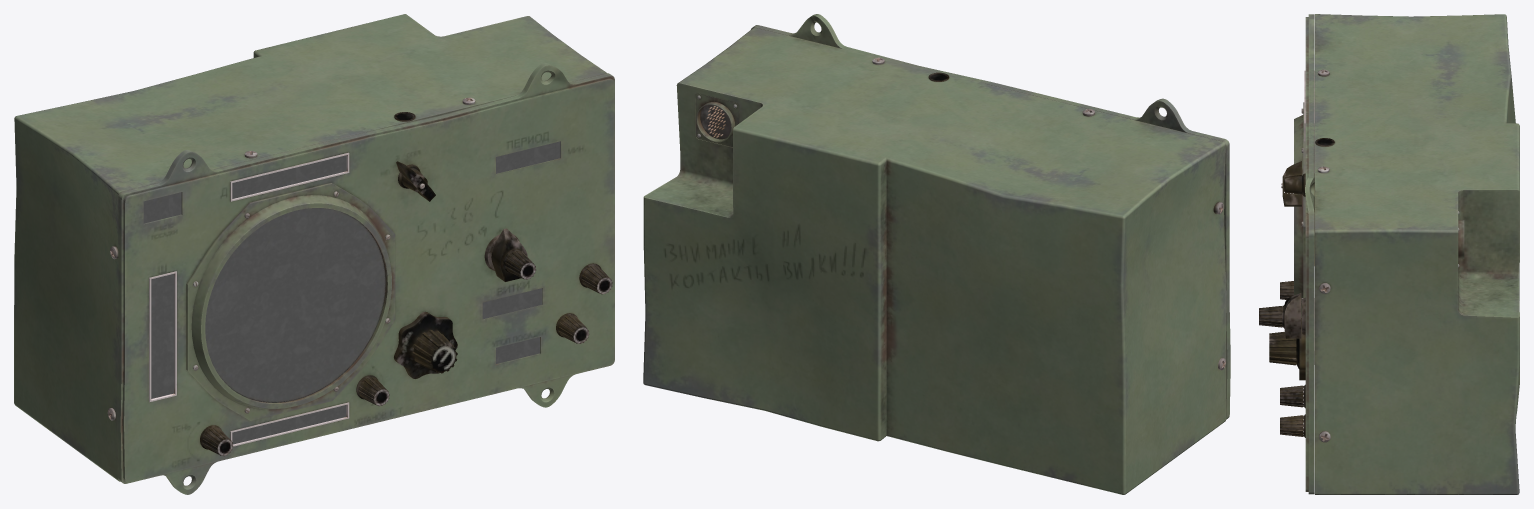
The model's file is analog_navigation_instrument.glb.
3 views of the same model, side by side, from view 1: azimuth 30°, elevation 25°; view 2: azimuth 150°, elevation 25°; view 3: azimuth 270°, elevation 25° (orthographic). The views are drawn at different scales.
Parts seen in each view (by area): view 1: vintage_spacecraft_instrument; view 2: vintage_spacecraft_instrument; view 3: vintage_spacecraft_instrument.
Boxes of the visible parts, <box> form: vintage_spacecraft_instrument: <box>14,14,614,494</box>; vintage_spacecraft_instrument: <box>643,14,1230,494</box>; vintage_spacecraft_instrument: <box>1259,14,1519,494</box>.
Bounding box in the file's own units: 0.4103 × 0.2693 × 0.2044.
Materials: 3 (3 with a texture image).
